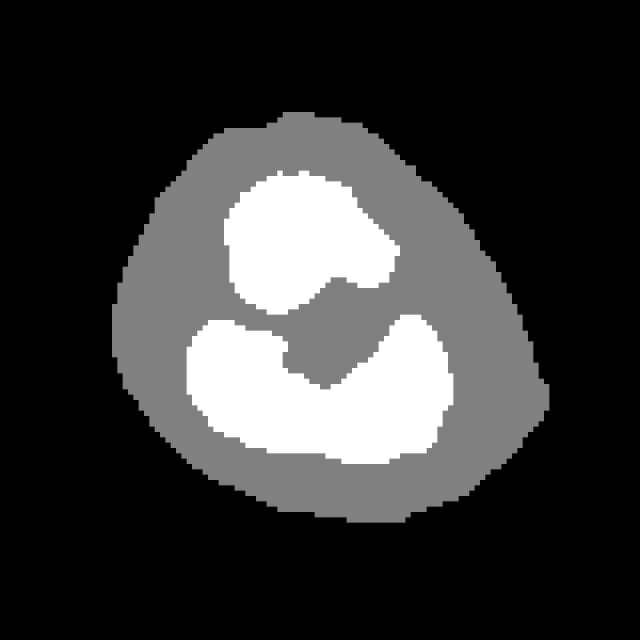WBC: (102, 80, 566, 533)
